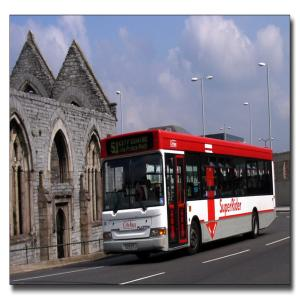Vehicle-registration-plate: (124, 243, 137, 253)
